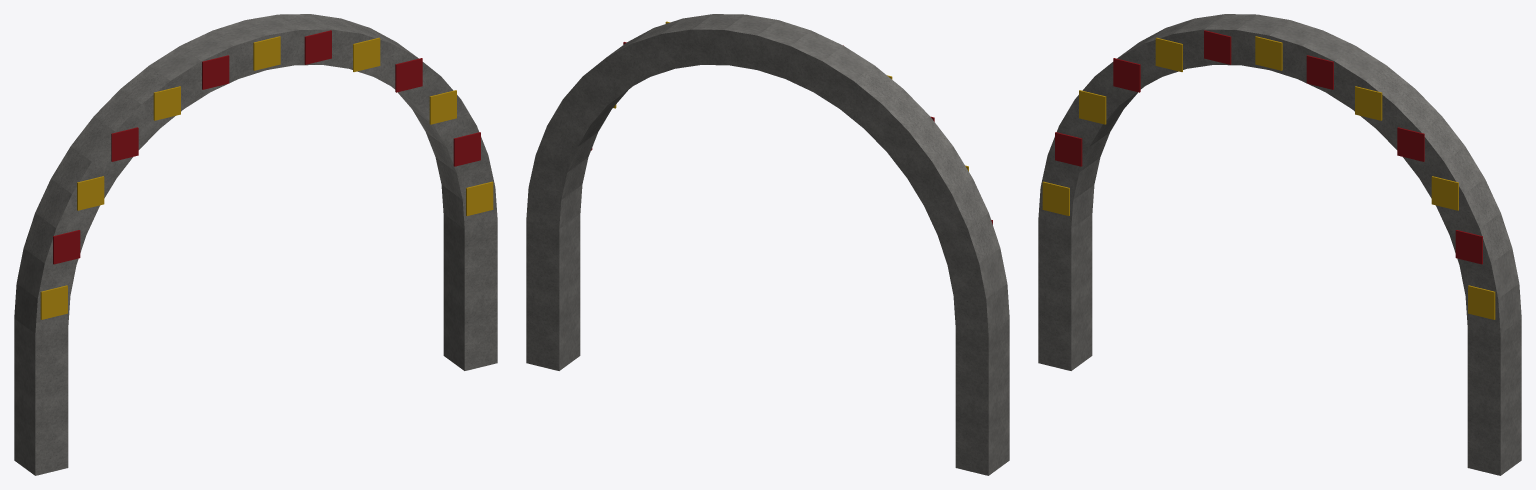
The model's file is tunnel_portal.obj.
3 views of the same model, side by side, from view 1: azimuth 30°, elevation 25°; view 2: azimuth 150°, elevation 25°; view 3: azimuth 330°, elevation 25° (orthographic).
Parts seen in each view (by area): view 1: tunnel_portal; view 2: tunnel_portal; view 3: tunnel_portal.
Part boxes in pixels (left/top/right/bottom): tunnel_portal: left=14, top=14, right=497, bottom=475; tunnel_portal: left=526, top=14, right=1009, bottom=475; tunnel_portal: left=1038, top=14, right=1521, bottom=475.
Bounding box in the file's own units: 6.3 × 5 × 0.52.
